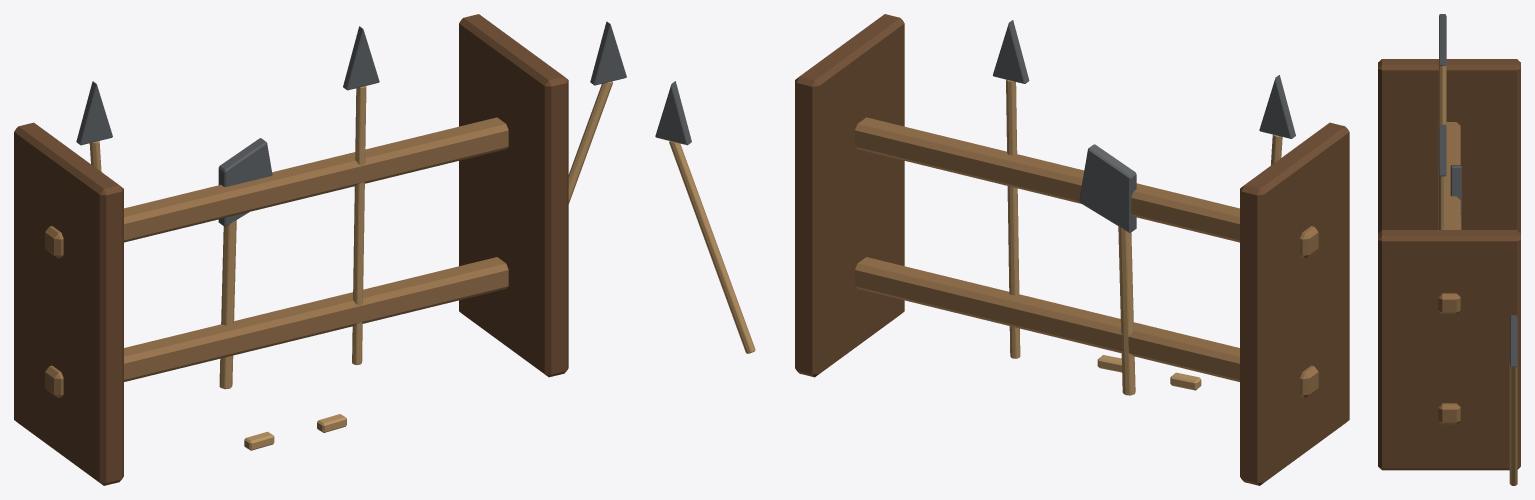
The model's file is runtime.glb.
3 views of the same model, side by side, from view 1: azimuth 30°, elevation 25°; view 2: azimuth 150°, elevation 25°; view 3: azimuth 270°, elevation 25° (orthographic). The views are drawn at different scales.
Parts seen in each view (by area): view 1: falkenwacht-weapon-rack-v10_nocol; view 2: falkenwacht-weapon-rack-v10_nocol; view 3: falkenwacht-weapon-rack-v10_nocol.
Boxes of the visible parts, x1,y1,x2,y2 form: falkenwacht-weapon-rack-v10_nocol: [14, 14, 626, 485]; falkenwacht-weapon-rack-v10_nocol: [655, 14, 1349, 485]; falkenwacht-weapon-rack-v10_nocol: [1378, 14, 1520, 485].
Bounding box in the file's own units: 3.3 × 1.88 × 0.84.
